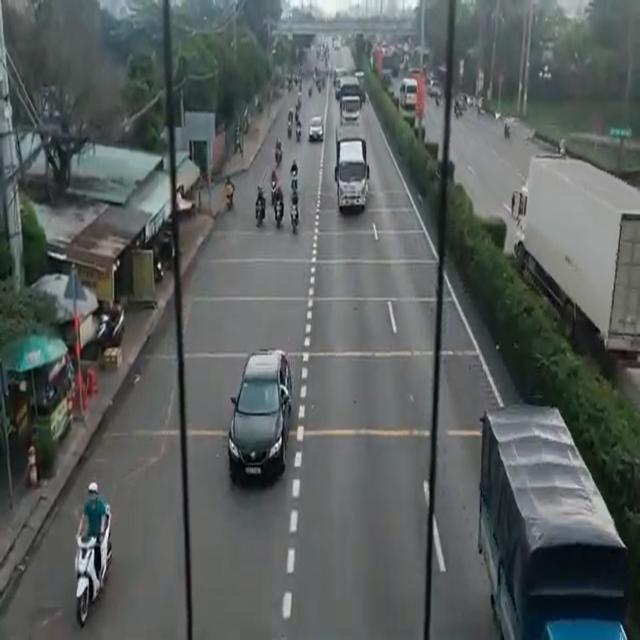car: (226, 348, 290, 482)
motorbike: (74, 526, 102, 609), (289, 194, 300, 236), (252, 188, 262, 232), (274, 192, 283, 234)
truck: (482, 403, 621, 640), (522, 149, 640, 360), (334, 121, 367, 226), (342, 78, 358, 116)
